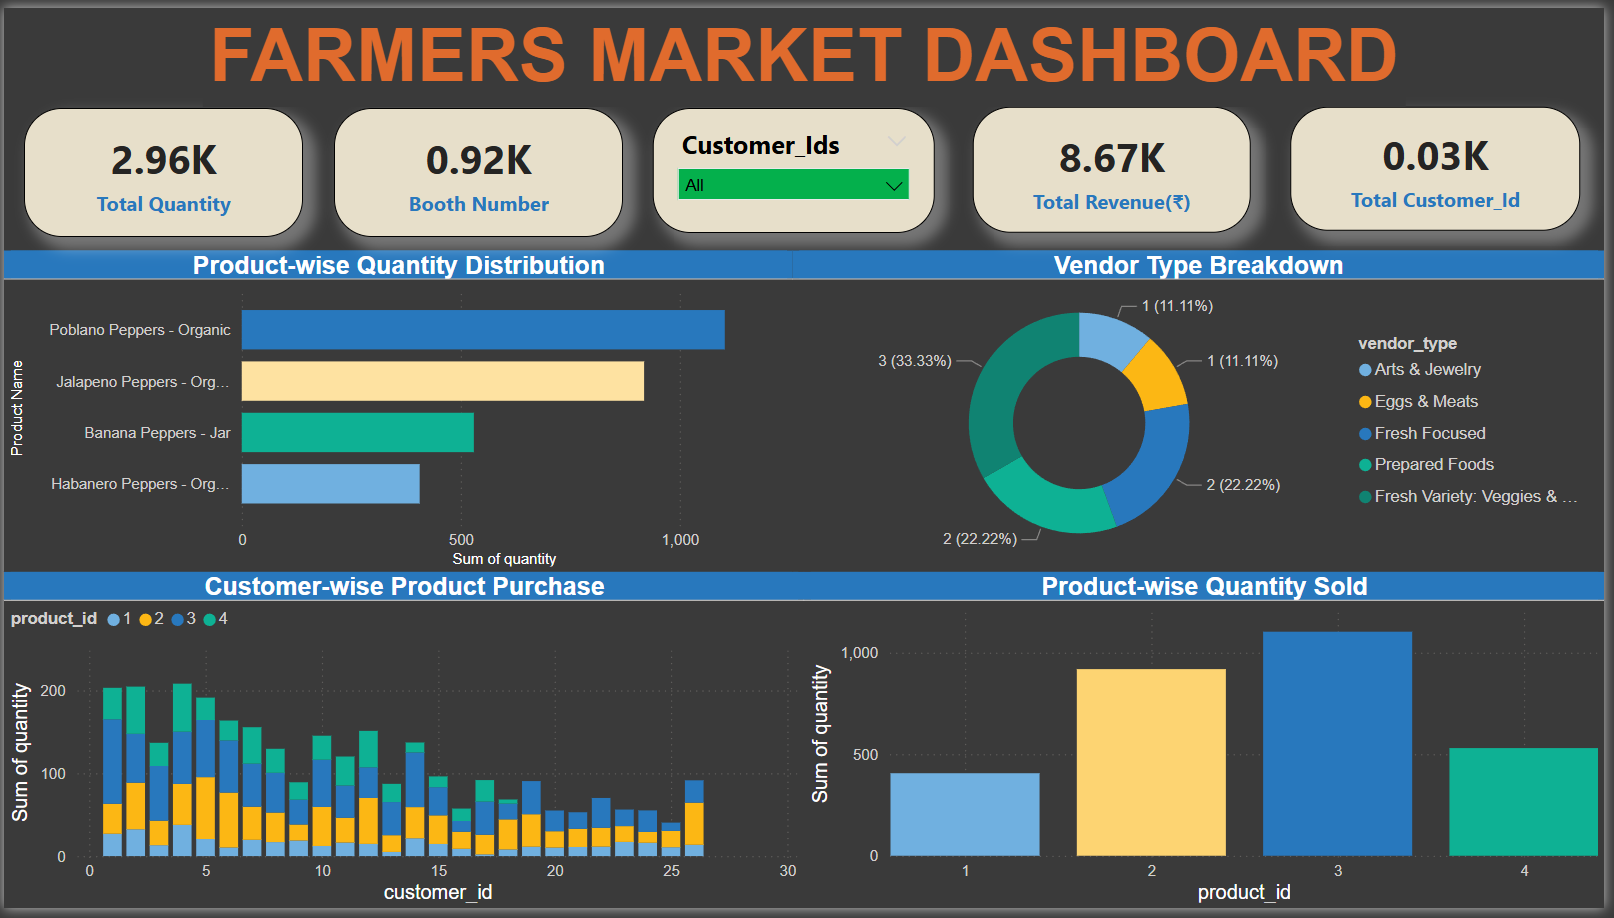

Layout of this report page (visuals, bound fields, positions):
{"tool":"powerbi","page":{"name":"Page 1","canvas":[1280,720],"ordinal":0},"visuals":[{"type":"columnChart","title":"Customer-wise Product Purchase","fields":{"Category":["customer_purchases.customer_id"],"Y":["Sum(customer_purchases.quantity)"],"Series":["customer_purchases.product_id"]},"box":[0,451.2,640,268.8],"z":0},{"type":"slicer","fields":{"Values":["customer_purchases.customer_id"]},"box":[519.4,79.7,224.1,100.2],"z":1000},{"type":"clusteredColumnChart","title":"Product-wise Quantity Sold","fields":{"Category":["product.product_id"],"Y":["Sum(customer_purchases.quantity)"]},"box":[640,451.4,640,268.6],"z":2000},{"type":"clusteredBarChart","title":"Product-wise Quantity Distribution","fields":{"Category":["product.product_name"],"Y":["Sum(customer_purchases.quantity)"]},"box":[0,193.8,631.2,257.5],"z":3000},{"type":"donutChart","title":"Vendor Type Breakdown","fields":{"Category":["vendor.vendor_type"],"Y":["CountNonNull(vendor.vendor_type)"]},"box":[631.2,193.8,648.8,257.5],"z":4000},{"type":"card","fields":{"Values":["Sum(customer_purchases.quantity)"]},"box":[16.2,80,222.5,102.5],"z":5000},{"type":"card","fields":{"Values":["CountNonNull(vendor_booth_assignments.booth_number)"]},"box":[263.8,80,231.2,102.5],"z":6000},{"type":"card","fields":{"Values":["customer (3).Total_Sales"]},"box":[774.8,78.7,222,101.3],"z":7000},{"type":"card","fields":{"Values":["Count(customer (3).customer_id)"]},"box":[1028.8,78.8,232.5,98.8],"z":8000},{"type":"textbox","box":[158.8,0,962.5,78.8],"z":9000}]}

Visuals, with their boxes in screenshot pixels (x1, y1, x2, y2), scaled from the page's 1280x720 canvas onto the 1614x918 screenshot:
"Customer-wise Product Purchase" columnChart: pyautogui.locateOnScreen(0, 575, 807, 917)
slicer - customer_purchases.customer_id: pyautogui.locateOnScreen(655, 102, 938, 229)
"Product-wise Quantity Sold" clusteredColumnChart: pyautogui.locateOnScreen(807, 576, 1613, 917)
"Product-wise Quantity Distribution" clusteredBarChart: pyautogui.locateOnScreen(0, 247, 796, 575)
"Vendor Type Breakdown" donutChart: pyautogui.locateOnScreen(796, 247, 1613, 575)
card - Sum(customer_purchases.quantity): pyautogui.locateOnScreen(20, 102, 301, 233)
card - CountNonNull(vendor_booth_assignments.booth_number): pyautogui.locateOnScreen(333, 102, 624, 233)
card - customer (3).Total_Sales: pyautogui.locateOnScreen(977, 100, 1257, 229)
card - Count(customer (3).customer_id): pyautogui.locateOnScreen(1297, 100, 1590, 226)
textbox: pyautogui.locateOnScreen(200, 0, 1414, 100)
